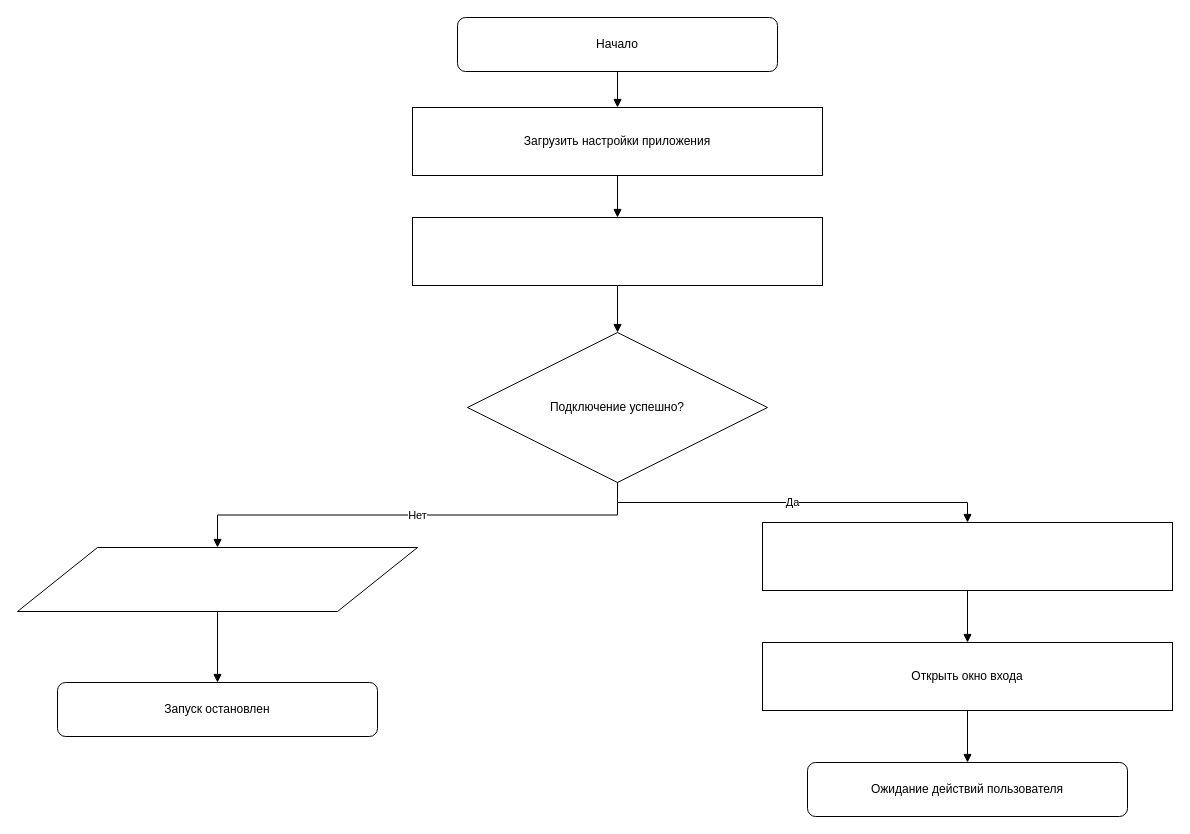
Image size: 1190x834. Some labels were removed from this diagram. The shapes that lost their labels are listed below. From the top down, each one's centre as x and y in pixels, then its label:
(x=617, y=251): Открыть подключение к БД
(x=967, y=556): Загрузить иконку, логотип и заглушку фото
(x=217, y=579): Показать понятное сообщение о проблеме подключения
